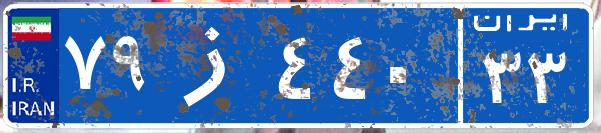0: (385, 28, 445, 110)
3: (475, 38, 525, 113), (525, 38, 570, 115)
4: (273, 28, 330, 110), (330, 28, 385, 110)
7: (57, 26, 110, 107)
9: (110, 28, 158, 105)
ز: (158, 15, 273, 115)
